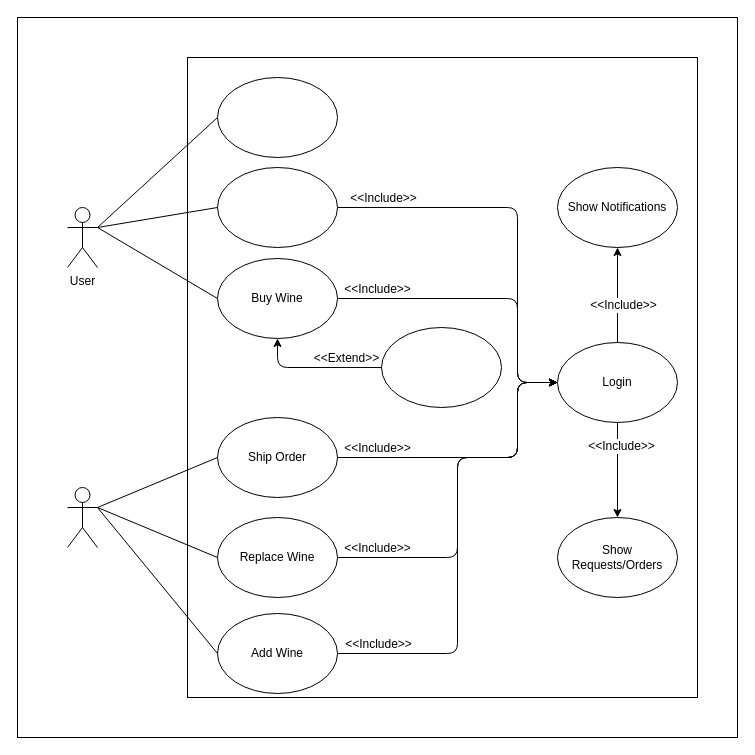
This 755x755 diagram has some shape labels left out. Here are the shapes that lost their labels. From the top down, the box of each, then its label:
(216, 76, 338, 158): Register
(216, 166, 338, 248): Search Wine
(380, 326, 502, 408): Request Wine
(66, 486, 98, 548): Employee
